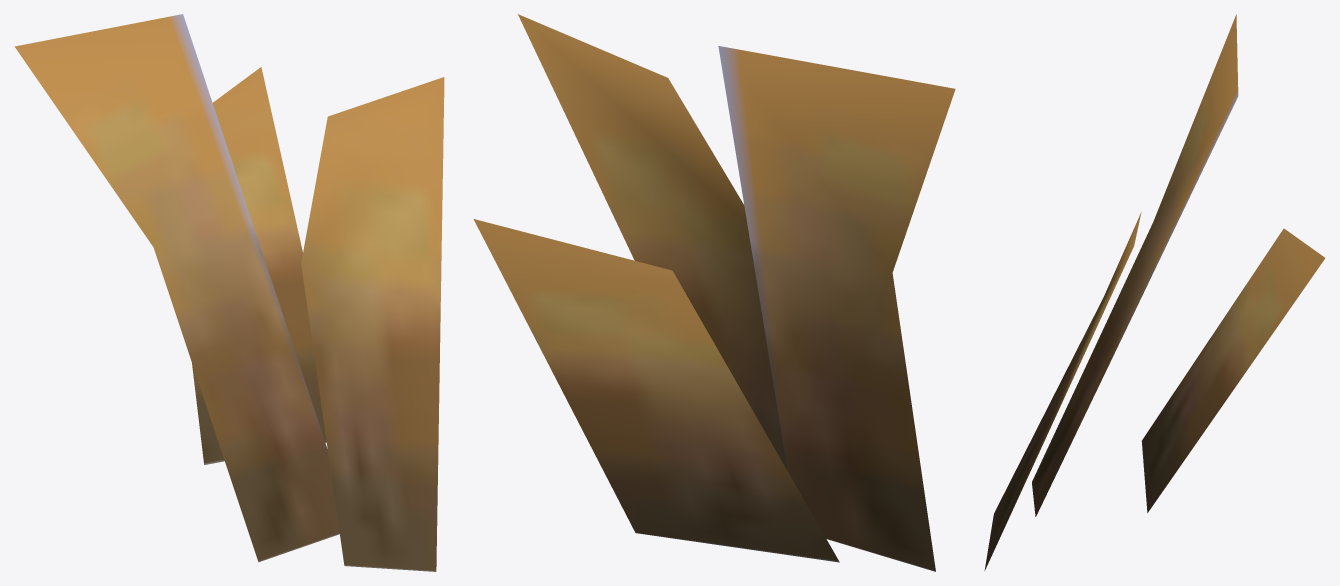
The model's file is fg_grassD.dae.
3 views of the same model, side by side, from view 1: azimuth 30°, elevation 25°; view 2: azimuth 150°, elevation 25°; view 3: azimuth 270°, elevation 25° (orthographic). The views are drawn at different scales.
Visible parts, largest first — view 1: fg_grassD; view 2: fg_grassD; view 3: fg_grassD.
Boxes of the visible parts, bbox=[...] form: fg_grassD: bbox=[14, 14, 444, 571]; fg_grassD: bbox=[473, 14, 955, 571]; fg_grassD: bbox=[984, 14, 1325, 570].
Size of the model in its own units: 14.73 by 18.52 by 13.13.
Materials: 1 (1 with a texture image).
